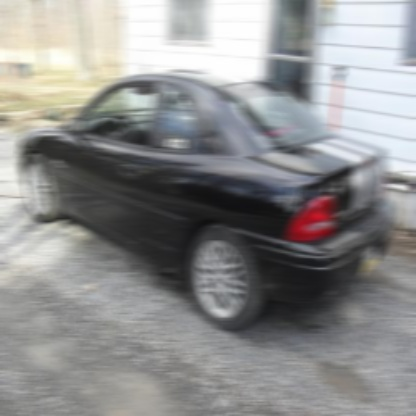Vehicle: (16, 66, 396, 334)
